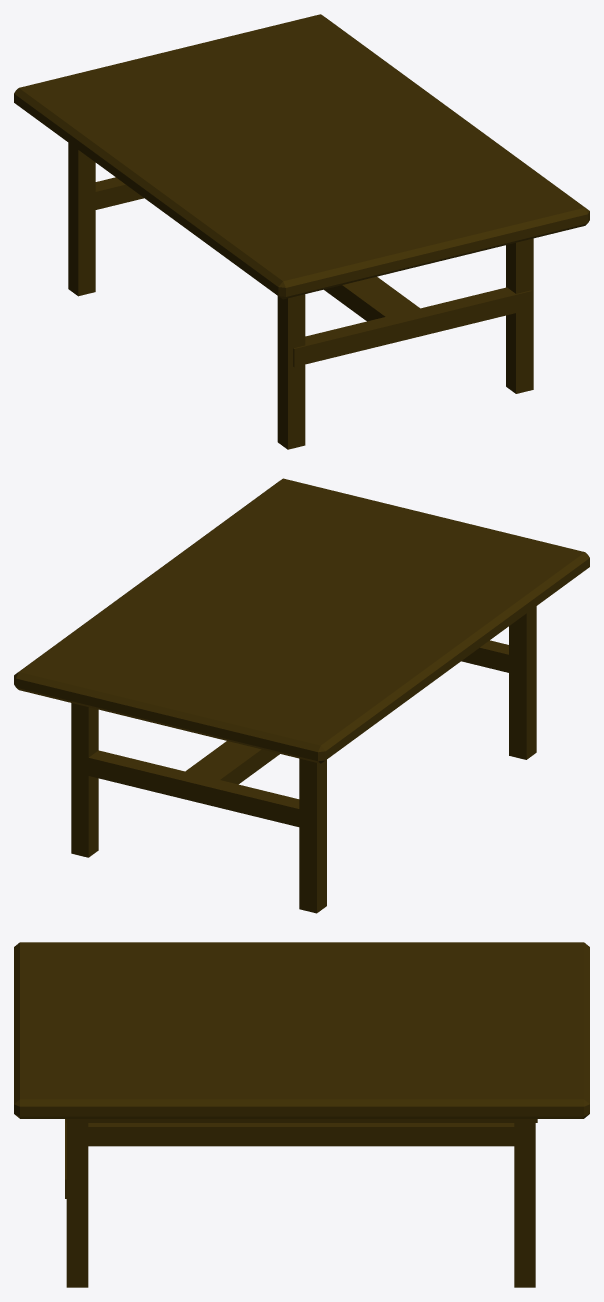
File: table.fbx
3 views of the same model, one above another, from view 1: azimuth 30°, elevation 25°; view 2: azimuth 150°, elevation 25°; view 3: azimuth 270°, elevation 25° (orthographic). The views are drawn at different scales.
Parts seen in each view (by area): view 1: pCube55; view 2: pCube55; view 3: pCube55.
Part boxes in pixels (x1,y1,x2,y2): pCube55: (14, 14, 589, 449); pCube55: (14, 478, 589, 913); pCube55: (14, 942, 589, 1287).
Size of the model in its own units: 1991 by 1166 by 2987.
